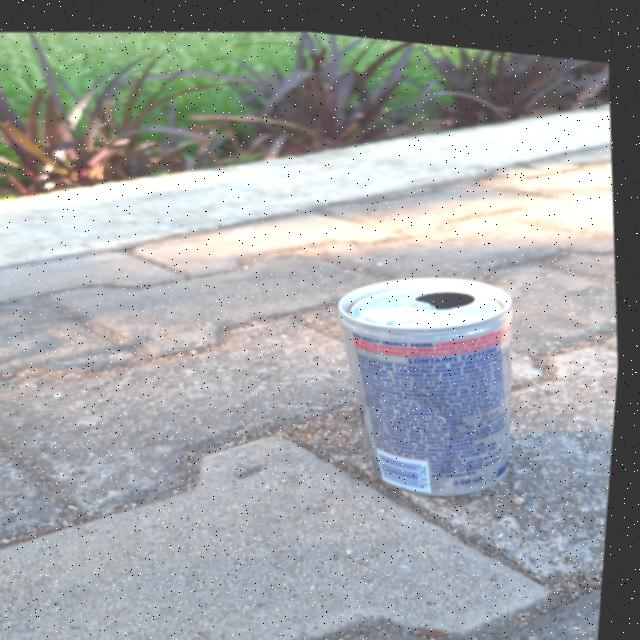Redbul: (334, 257, 538, 496)
